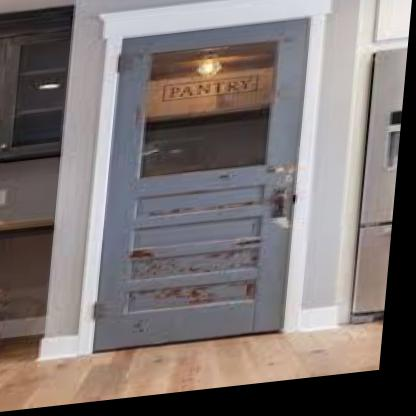door: (93, 25, 317, 350)
